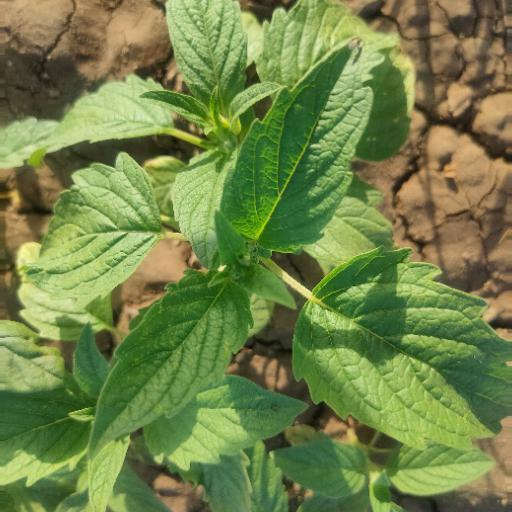crop: (1, 19, 496, 512)
